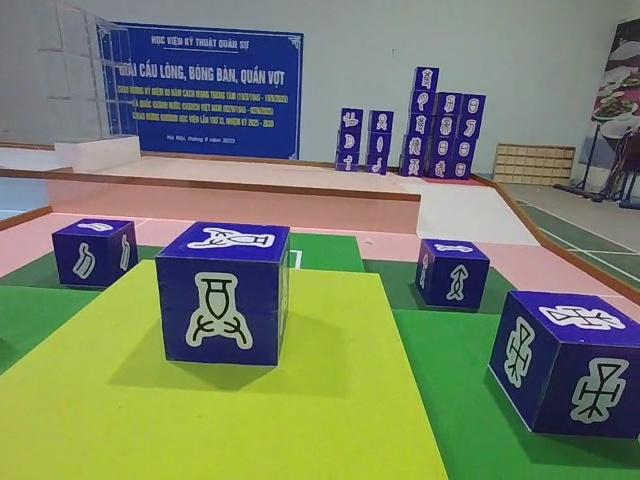R2 Real Blue: (490, 293, 640, 443), (156, 220, 293, 368), (51, 220, 138, 293), (412, 239, 489, 313)
